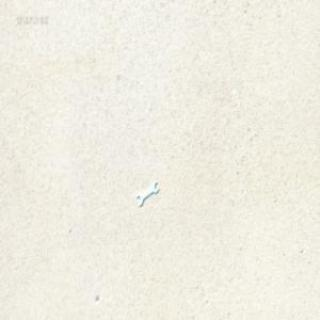Wrenchtrack_idkeyframe: (136, 179, 158, 207)
